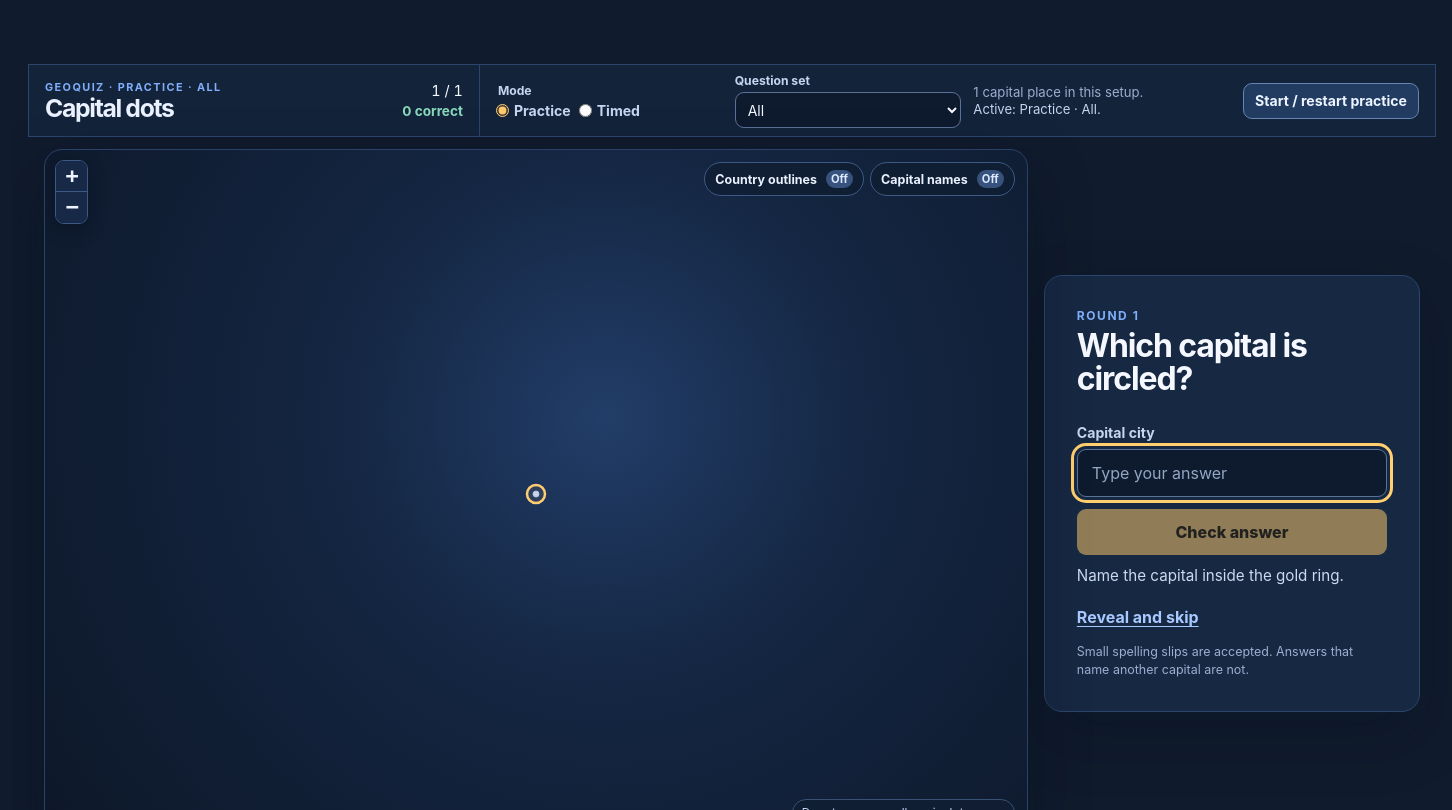
Test case: CapitalMapQuiz interaction and focus flow › allows immediate first-click Skip followed by Reveal as separate manual actions
The image size is (1452, 810).
Click the radio button labelled "Timed". click: (585, 110)
box: top-left (579, 104), bottom-right (592, 116)
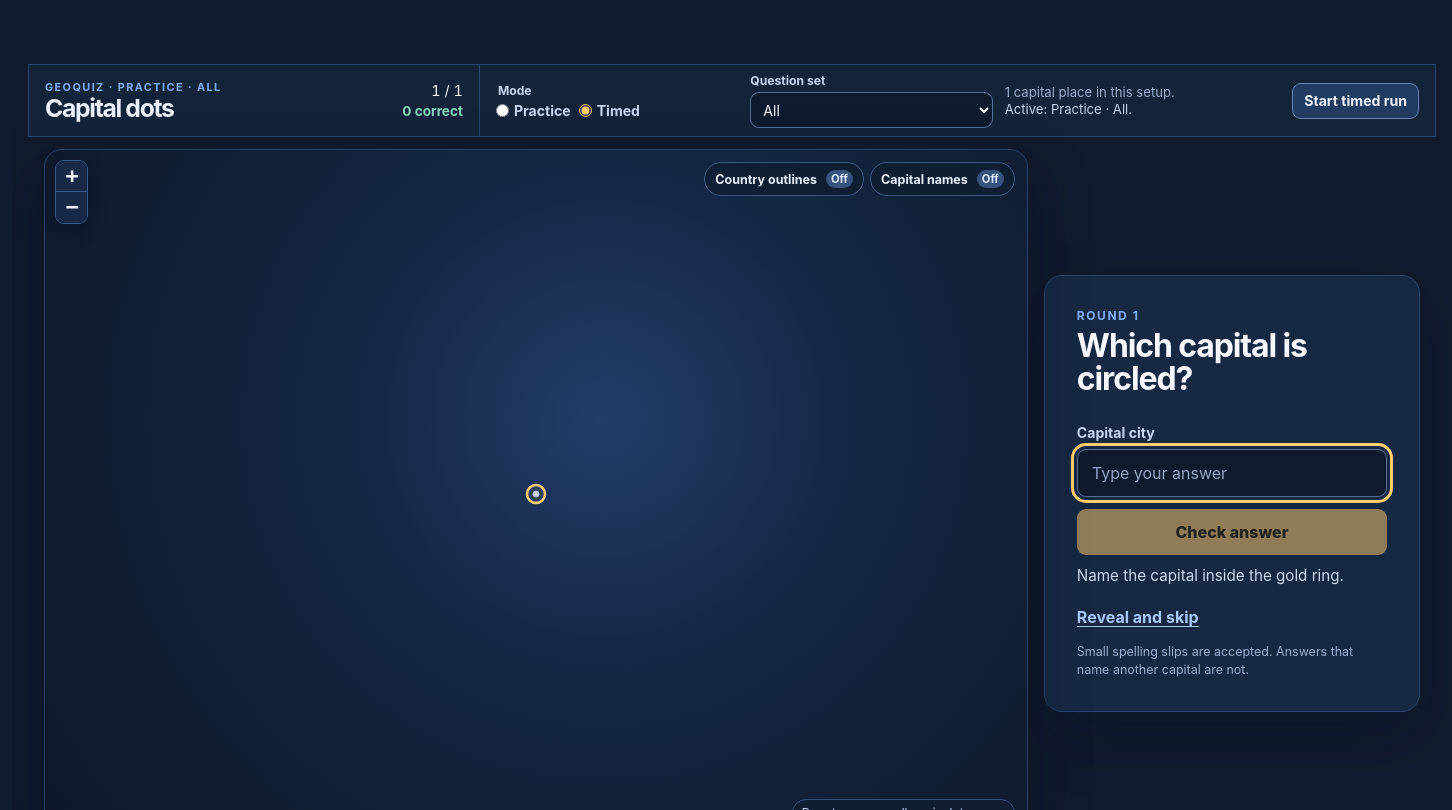
Click the button "Start timed run". click: (1356, 100)
box: top-left (1292, 82), bottom-right (1419, 118)
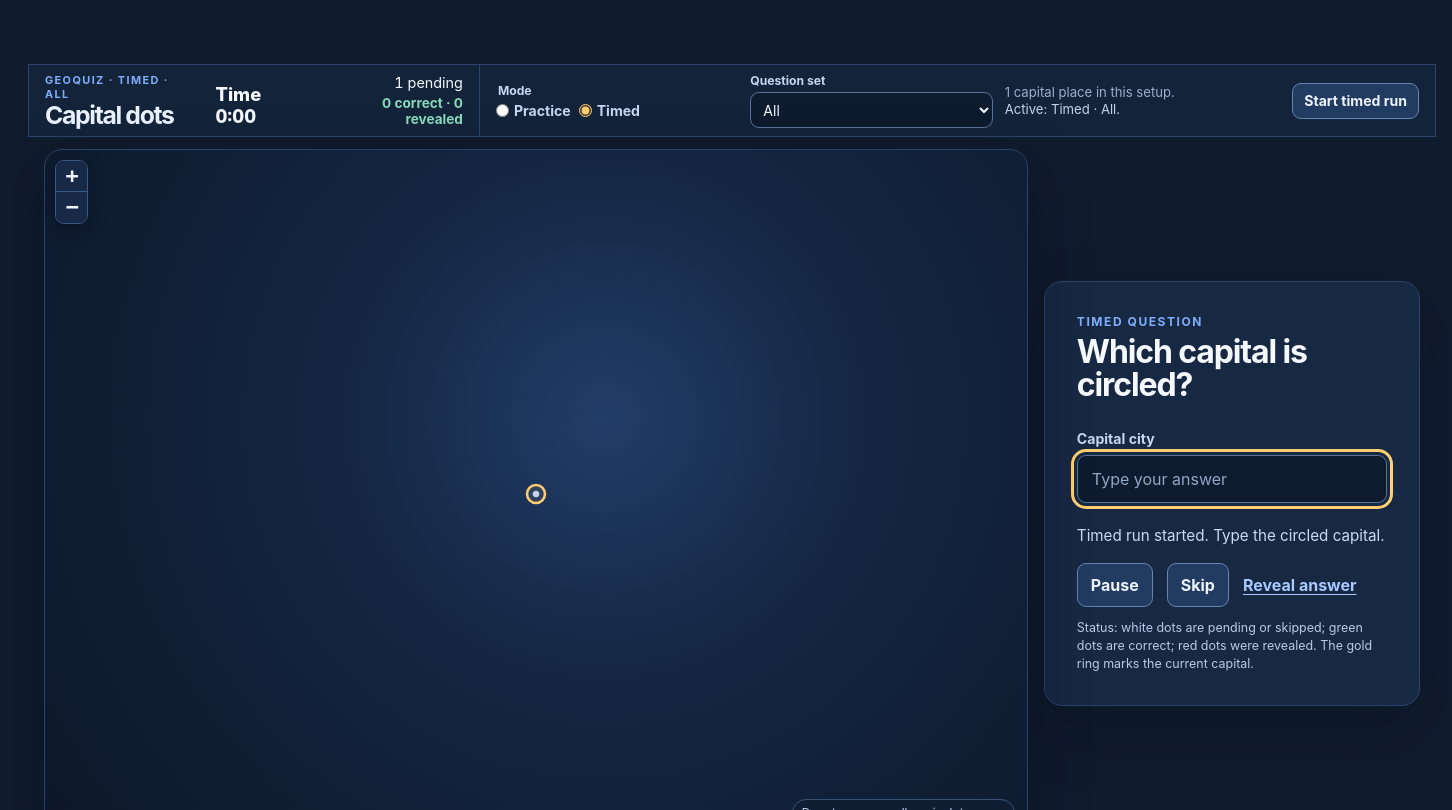
Click the button "Skip". click: (1198, 585)
box: top-left (1167, 563), bottom-right (1229, 607)
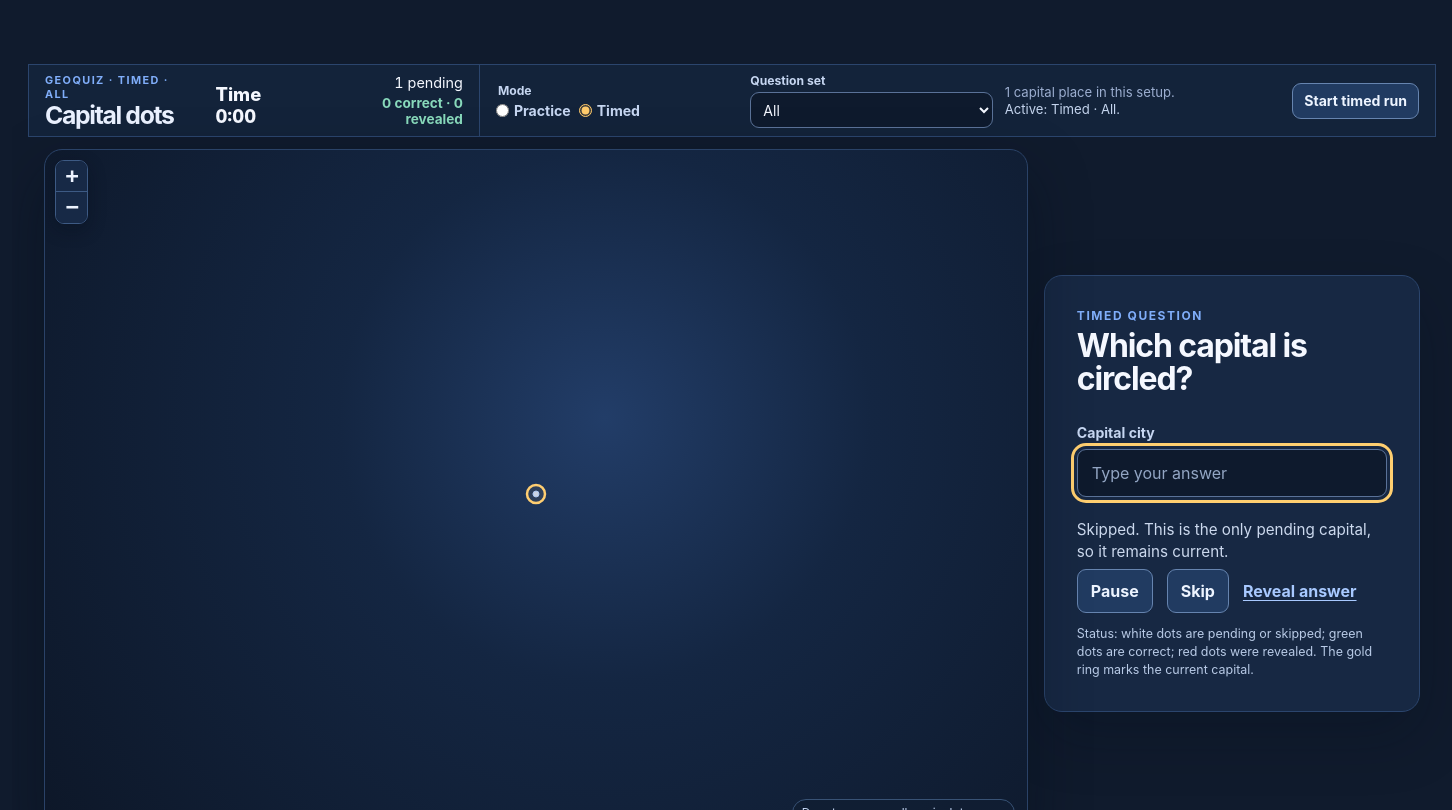
Click the button "Reveal answer". click: (1300, 591)
box: top-left (1243, 577), bottom-right (1356, 605)
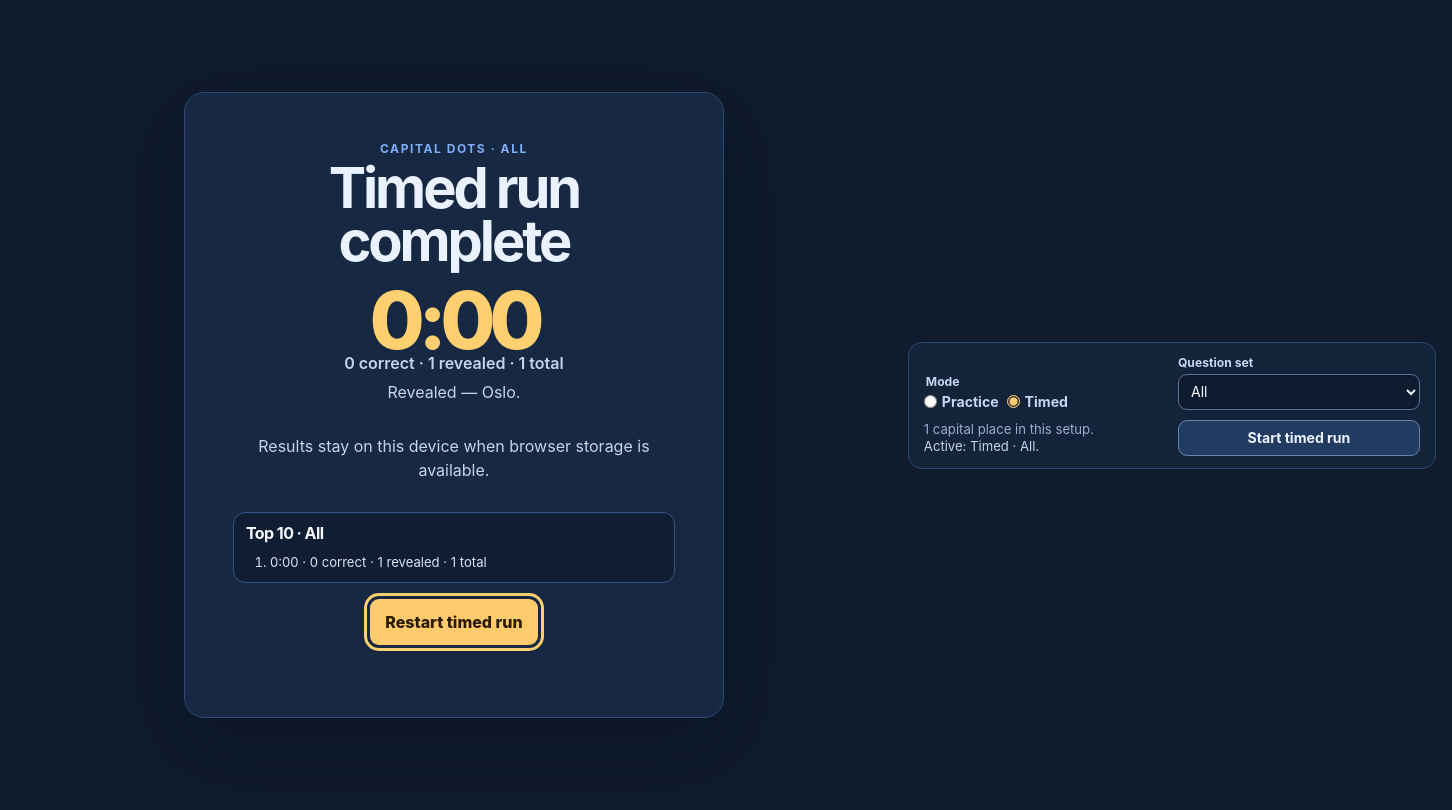
Check: the heading "Timed run complete" is shown, box top-left (329, 154), bottom-right (579, 275)
Check: the text "Revealed — Oslo." is shown, box top-left (387, 382), bottom-right (520, 402)
